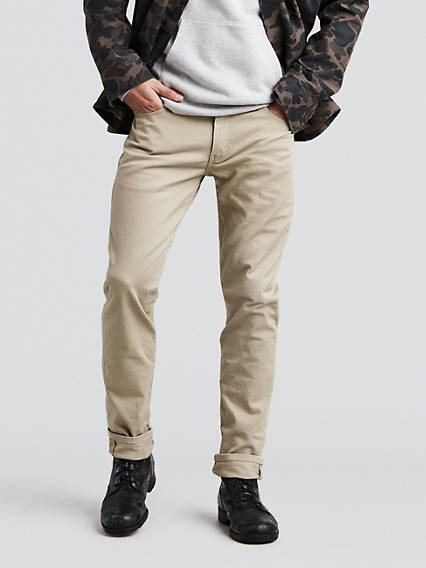Jeans: (98, 105, 299, 484)
